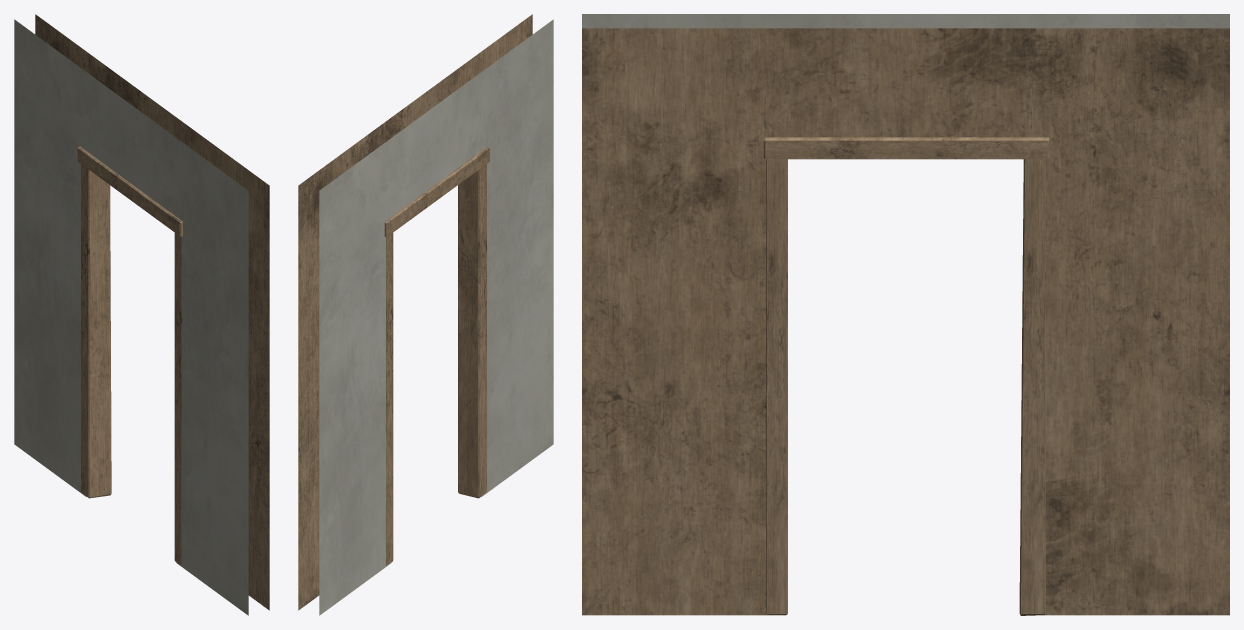
File: Wall_Doorframe.fbx
The picture shows the model from 3 angles, left to right: view 1: azimuth 30°, elevation 25°; view 2: azimuth 150°, elevation 25°; view 3: azimuth 270°, elevation 25°; orthographic projection. The views are drawn at different scales.
Parts seen in each view (by area): view 1: Cube.002; view 2: Cube.002; view 3: Cube.002.
Boxes of the visible parts, x1=… form: Cube.002: x1=14, y1=14, x2=269, y2=615; Cube.002: x1=298, y1=14, x2=553, y2=615; Cube.002: x1=582, y1=14, x2=1229, y2=615.
Size of the model in its own units: 13.26 by 200 by 200.
